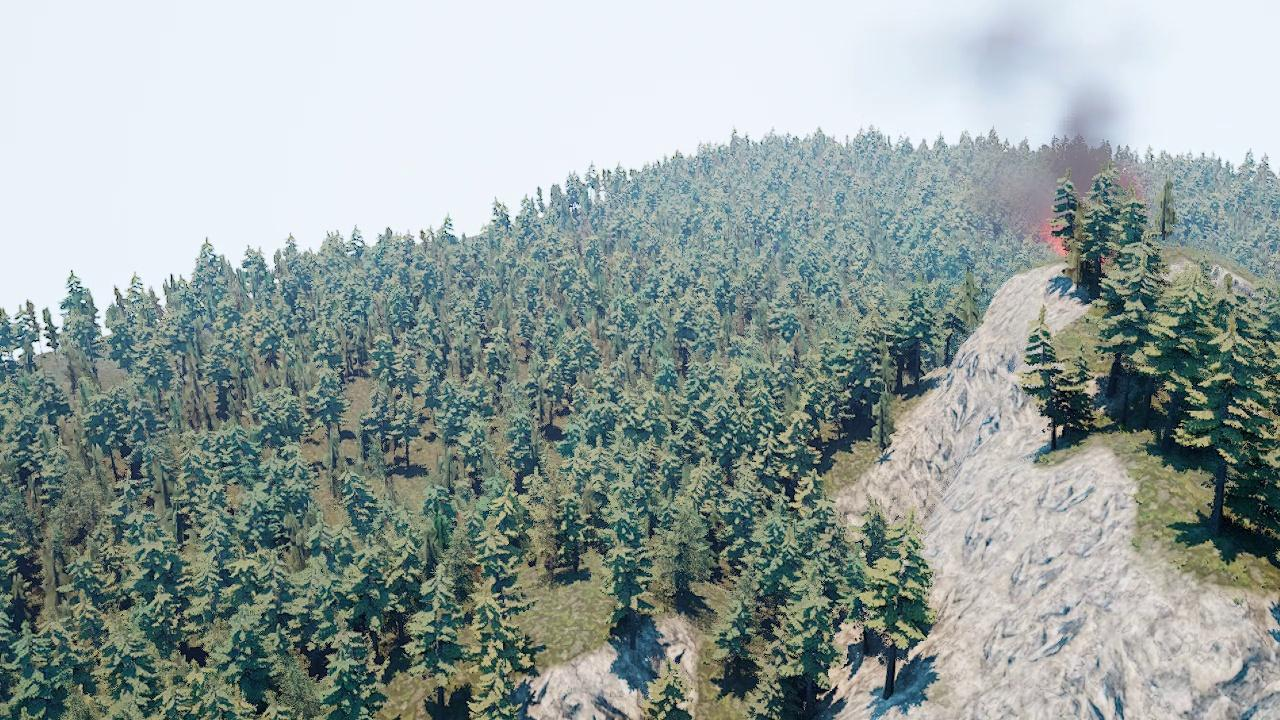fire: (1041, 222, 1072, 257)
smoke: (966, 6, 1160, 243)
